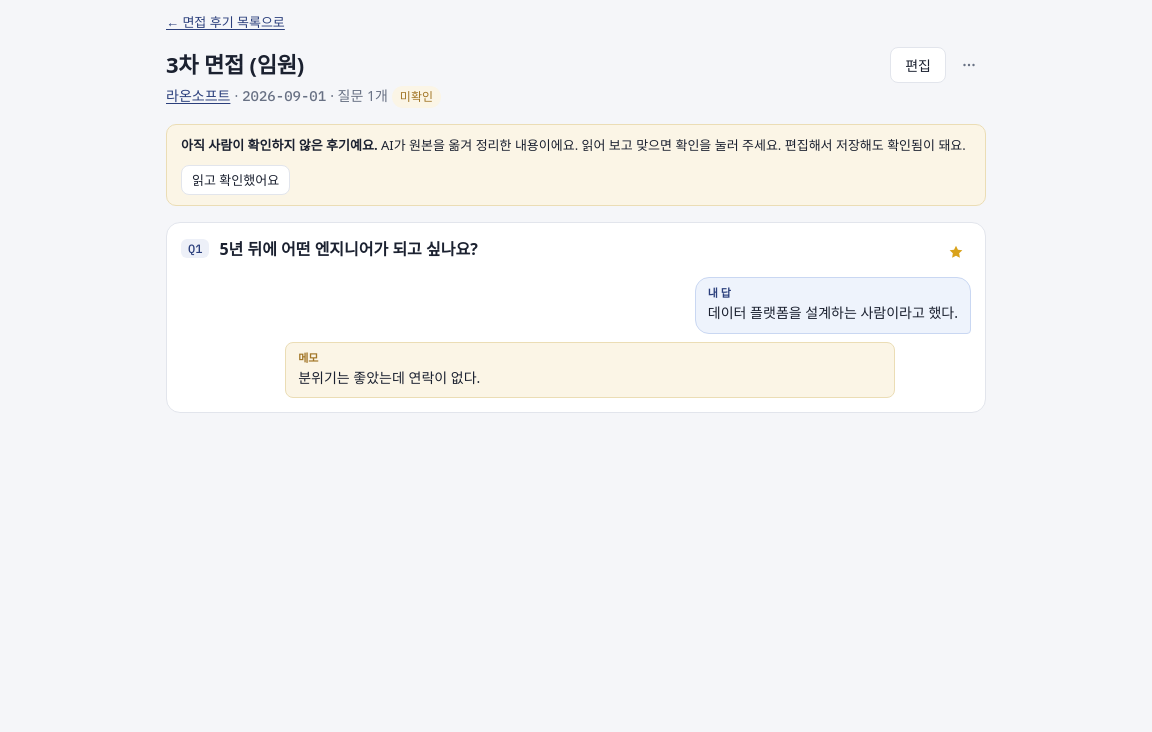
it: ReviewViewScreen › shows whether a person checked it, and marks it checked
Expected: the text "아직 사람이 확인하지 않은 후기예요." is shown, [181, 136, 378, 154]
Expected: the text "미확인" is shown, [392, 86, 441, 108]
Click the button "읽고 확인했어요".
click(236, 180)  # box [181, 165, 290, 195]
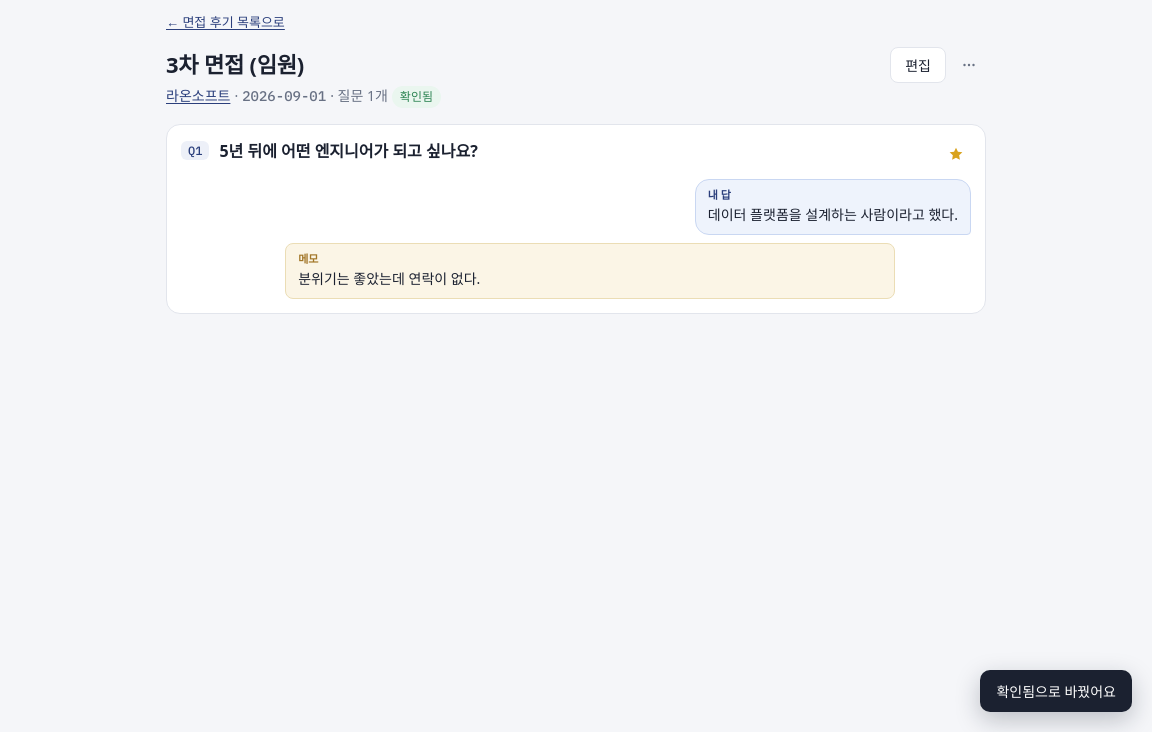
Expected: the text "확인됨" is shown, [392, 86, 441, 108]
Expected: the text "아직 사람이 확인하지 않은 후기예요." is gone
